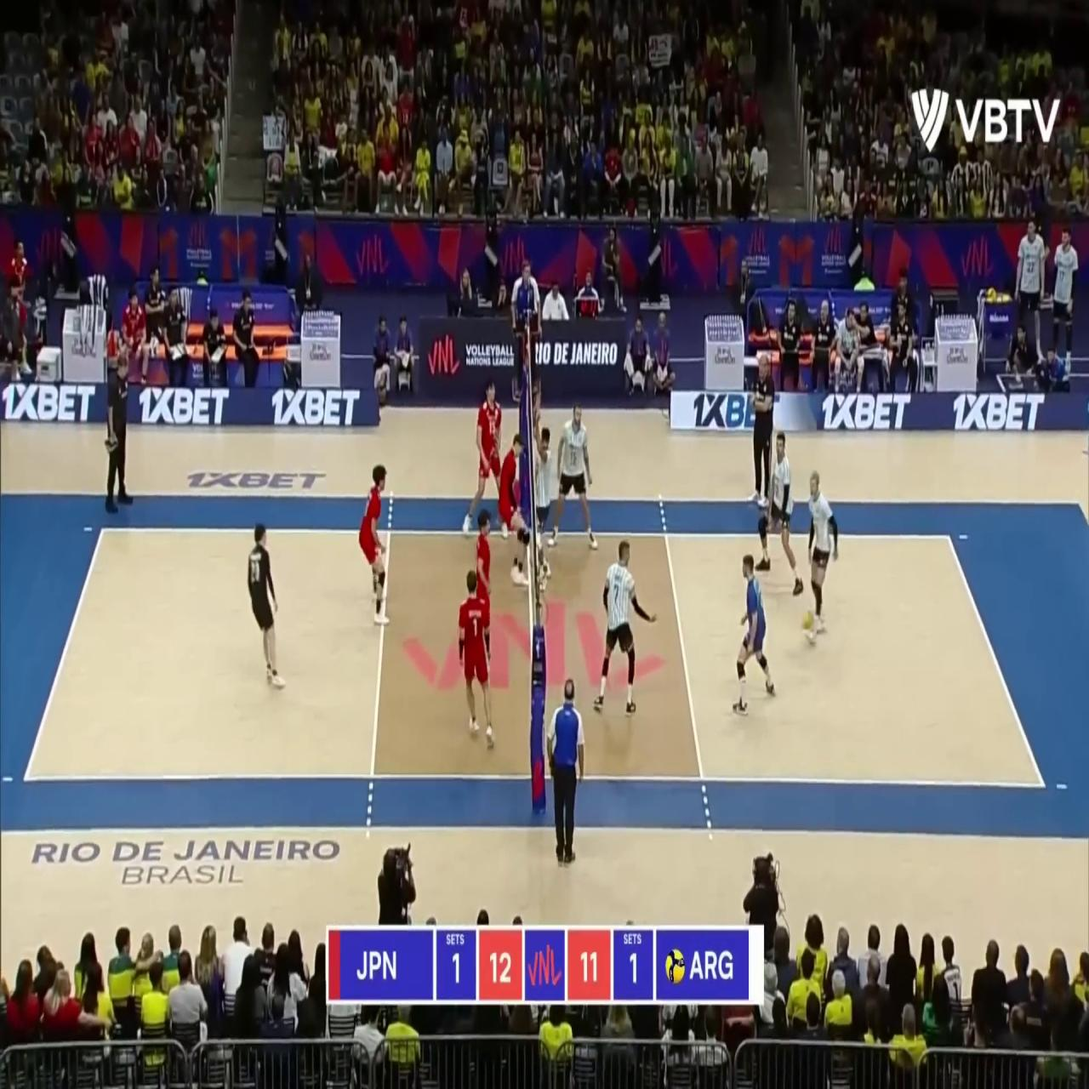ball: (802, 606, 814, 630)
